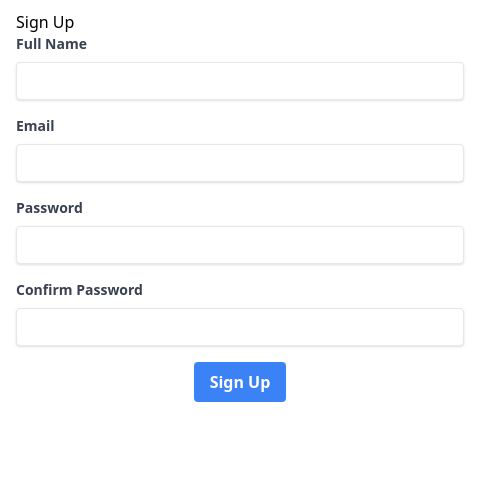
Test case: SignUpForm › displays error messages for invalid data
This screenshot has width=481, height=483.
Submit form without filling in any fields
Step 1. Click the button with test id "signUpButton" → (240, 382), box left=194, top=362, right=286, bottom=402
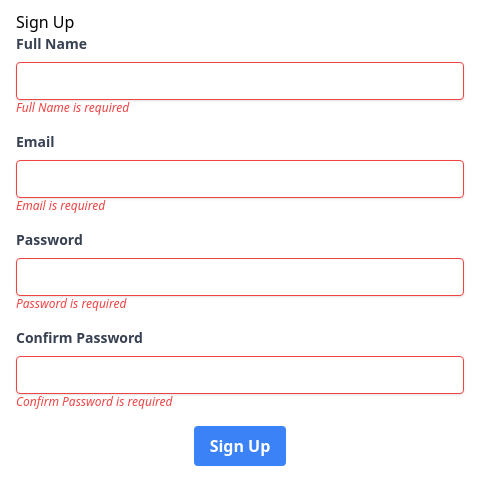
Now the text with test id "fullNameError" reads "Full Name is required", box left=16, top=99, right=129, bottom=116
Now the text with test id "emailError" reads "Email is required", box left=16, top=197, right=105, bottom=214
Now the text with test id "passwordError" reads "Password is required", box left=16, top=295, right=126, bottom=312
